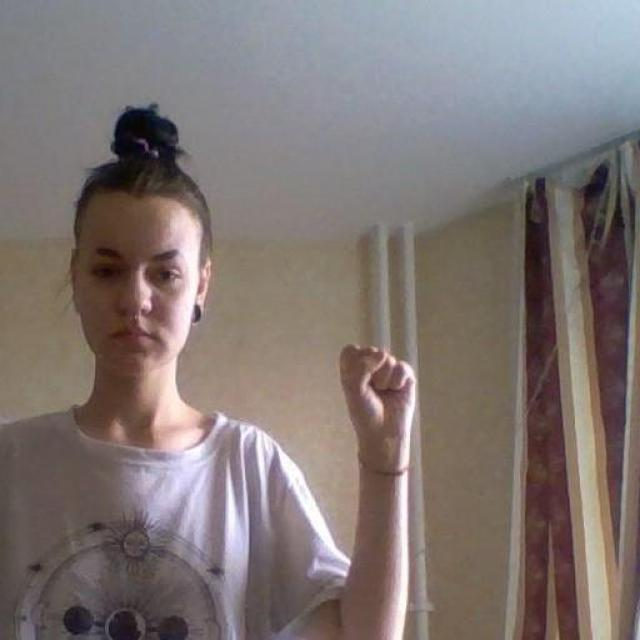hand: (338, 342, 417, 473)
